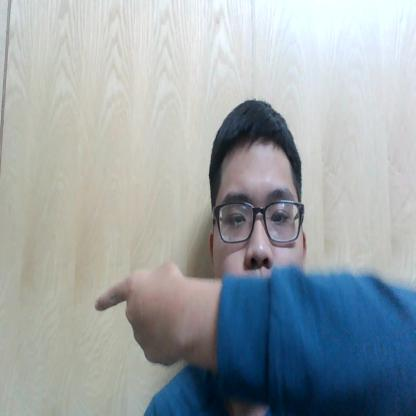right: (86, 250, 197, 377)
